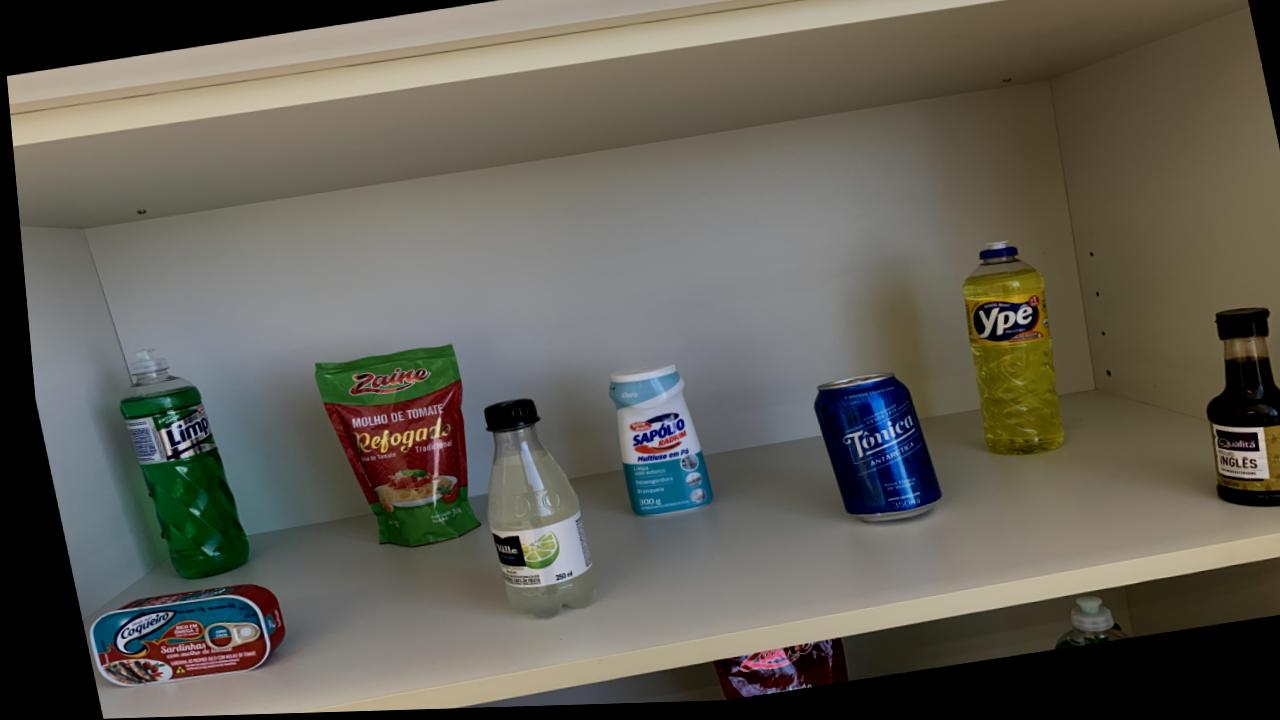Cleaner-Cleanup_Items: (602, 369, 703, 520)
Detergent-Cleanup_Items: (112, 350, 240, 580), (956, 248, 1055, 461)
English_Sauce-Pantry_Items: (1198, 315, 1280, 514)
Soda-Drinks: (478, 401, 585, 621)
Tomato_Sauce-Pantry_Items: (307, 347, 468, 549)
Tonic-Drinks: (806, 378, 932, 527)
Tuna_Can-Pantry_Items: (78, 585, 274, 687)
